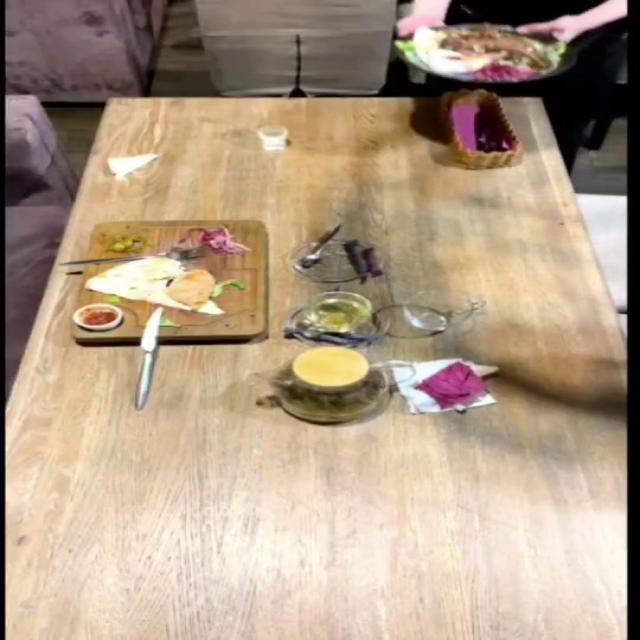meat: (389, 9, 567, 111)
soup: (73, 303, 124, 330)
tea: (268, 345, 387, 424)
